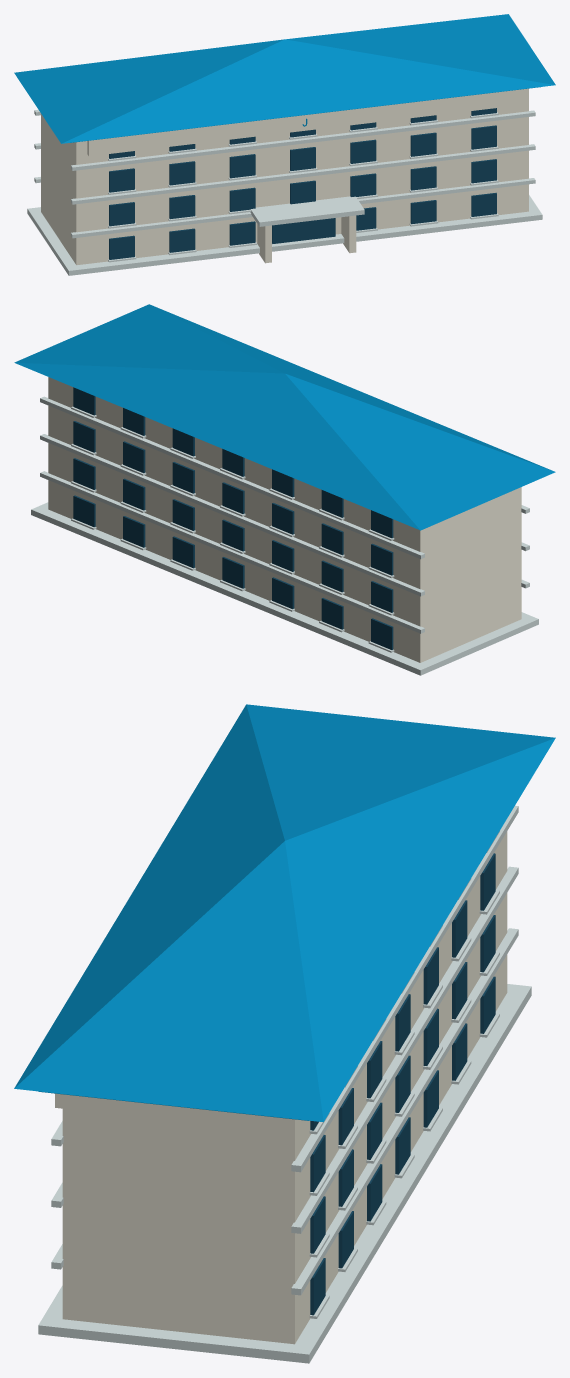
The model's file is farmasi.glb.
3 renders of one model, top to bottom at view 1: azimuth 30°, elevation 25°; view 2: azimuth 150°, elevation 25°; view 3: azimuth 270°, elevation 25°, orthographic. The views are drawn at different scales.
Visible parts, largest first — view 1: Farmasi_blue, Farmasi_ivory, Farmasi_trim, Farmasi_glass; view 2: Farmasi_blue, Farmasi_ivory, Farmasi_trim, Farmasi_glass; view 3: Farmasi_blue, Farmasi_ivory, Farmasi_trim, Farmasi_glass.
Part boxes in pixels (bbox=[...]): Farmasi_blue: bbox=[14, 14, 555, 143]; Farmasi_ivory: bbox=[41, 88, 528, 265]; Farmasi_trim: bbox=[27, 109, 542, 275]; Farmasi_glass: bbox=[109, 108, 496, 259]; Farmasi_blue: bbox=[14, 304, 555, 530]; Farmasi_ivory: bbox=[48, 377, 521, 662]; Farmasi_trim: bbox=[31, 396, 538, 675]; Farmasi_glass: bbox=[73, 387, 393, 649]; Farmasi_blue: bbox=[14, 704, 555, 1122]; Farmasi_ivory: bbox=[55, 831, 507, 1344]; Farmasi_trim: bbox=[38, 805, 531, 1363]; Farmasi_glass: bbox=[310, 853, 495, 1315].
Size of the model in its own units: 49.5 by 18.15 by 27.13.
